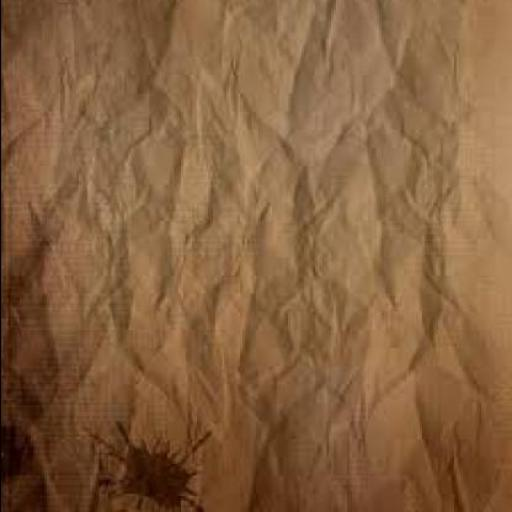paper: (1, 2, 511, 512)
